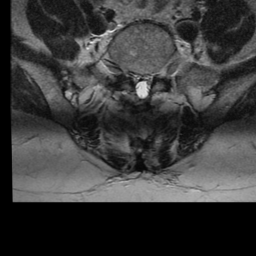CCS_normal: (138, 66, 145, 107)
LFS_stenosis: (153, 61, 161, 87)
LLS_normal: (144, 64, 154, 97)
RFS_normal: (123, 60, 131, 85)
RLS_normal: (131, 64, 139, 97)
